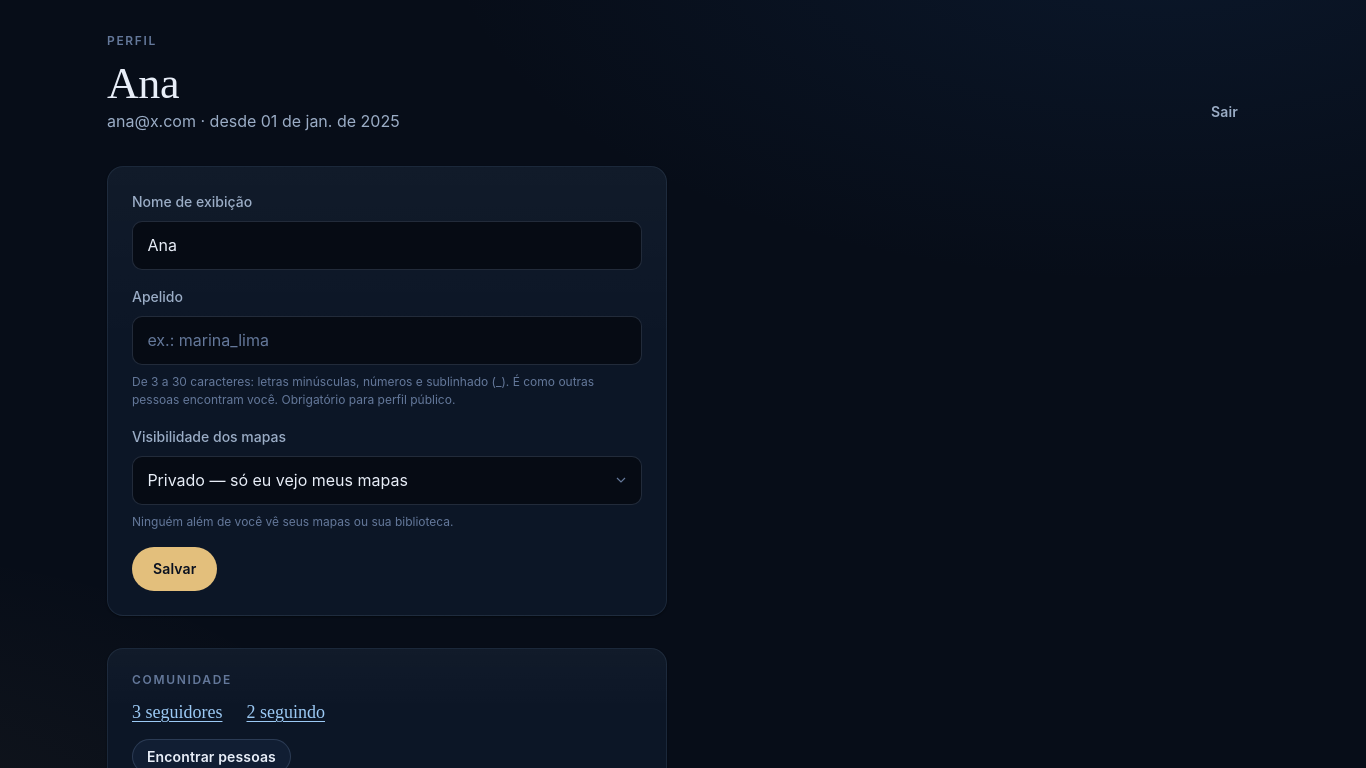
Test case: ProfilePage: apelido e visibilidade pública › erro profile.handle_taken da API aparece no campo do apelido
Type "marina_lima" into the field with test id "handle-input" at (387, 340), box [132,316,642,365]
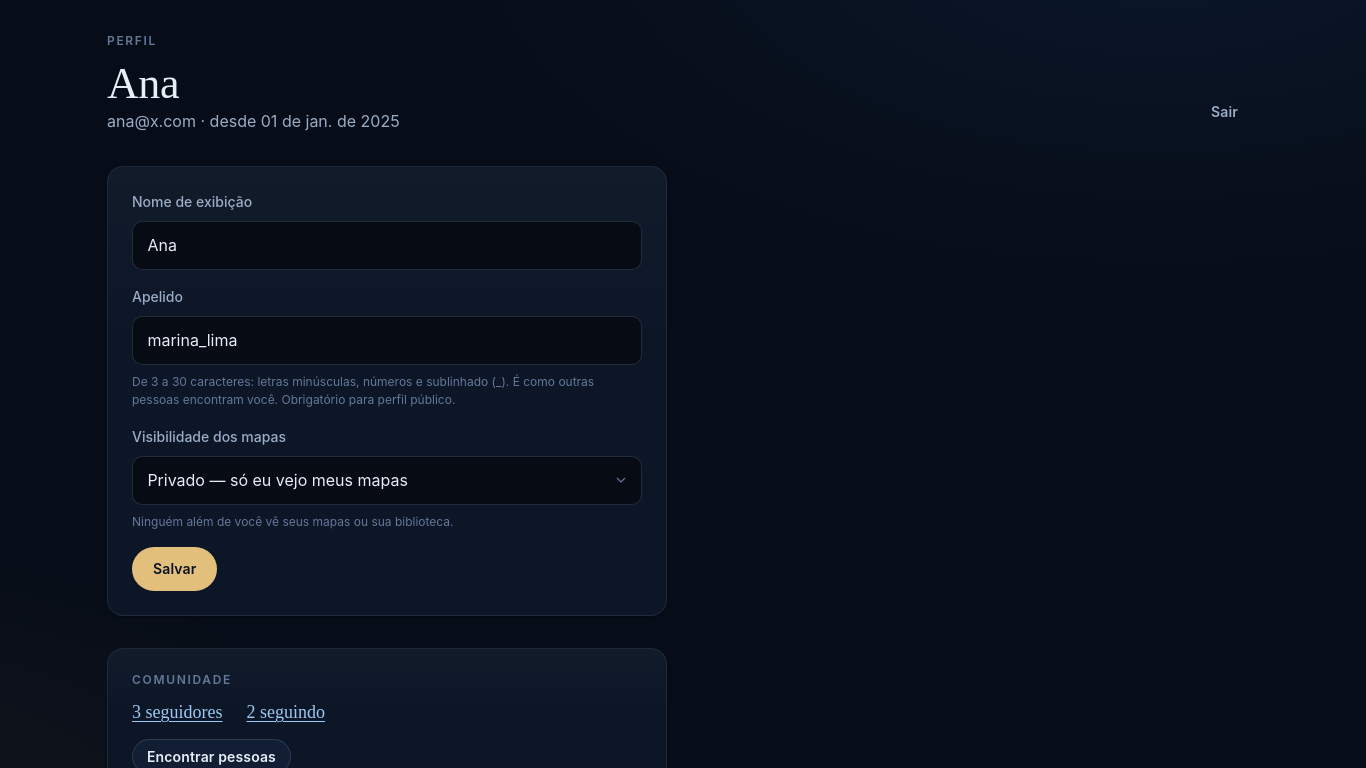
Submit the form, box [132,191,642,591]
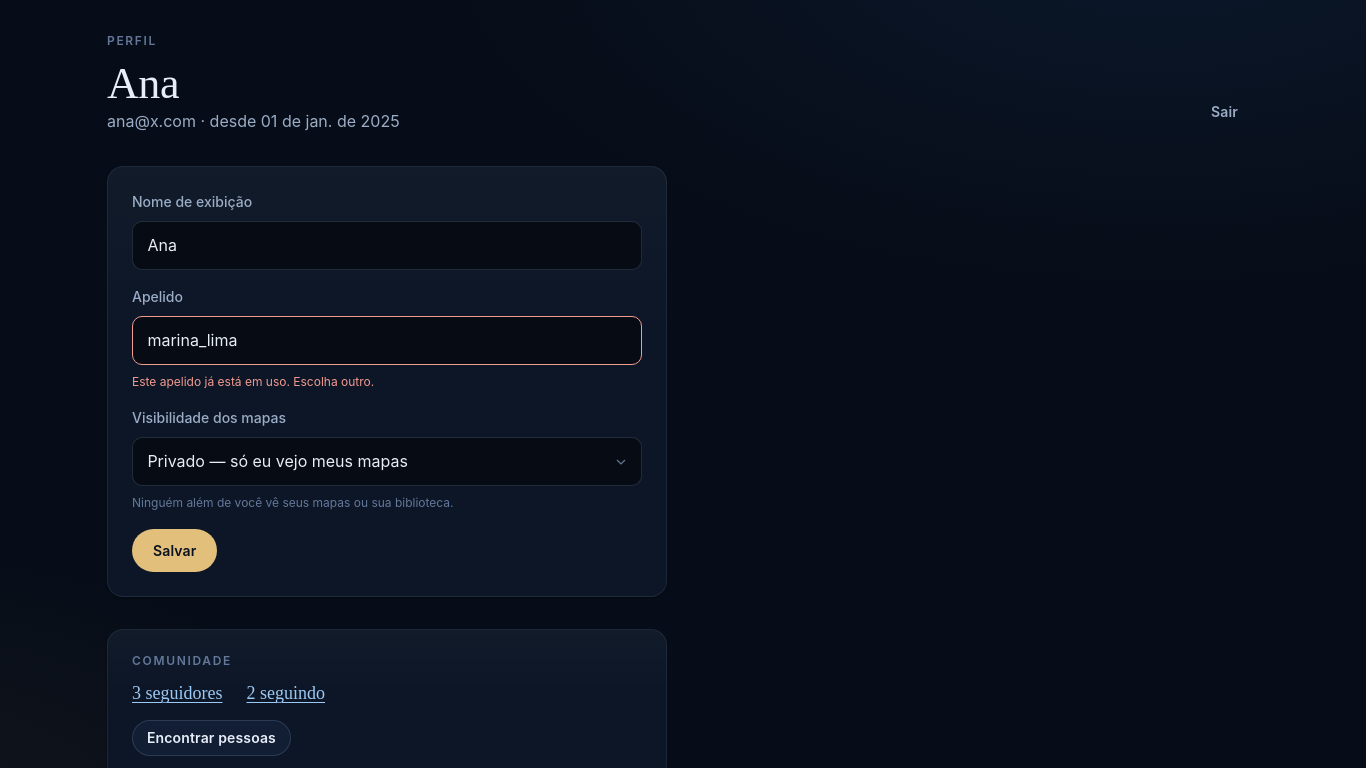
Check: the message with class "field__error" shows "Este apelido já está em uso", box [132,374,374,389]
